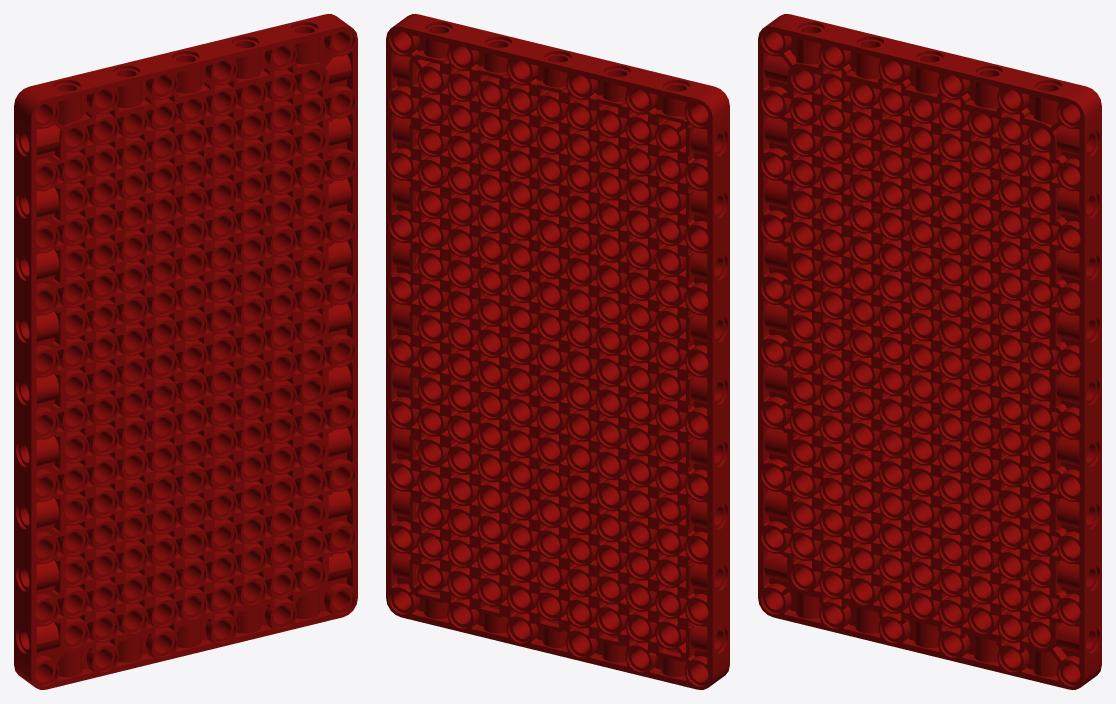
File: plate_11x19x1.obj
3 renders of one model, left to right at view 1: azimuth 30°, elevation 25°; view 2: azimuth 150°, elevation 25°; view 3: azimuth 330°, elevation 25°, orthographic.
Parts seen in each view (by area): view 1: 00000_39369.dat; view 2: 00000_39369.dat; view 3: 00000_39369.dat.
Part boxes in pixels (x1,y1,x2,y2): 00000_39369.dat: (14, 14, 357, 689); 00000_39369.dat: (386, 14, 729, 689); 00000_39369.dat: (758, 14, 1101, 689).
Size of the model in its own units: 0.088 by 0.152 by 0.008.
